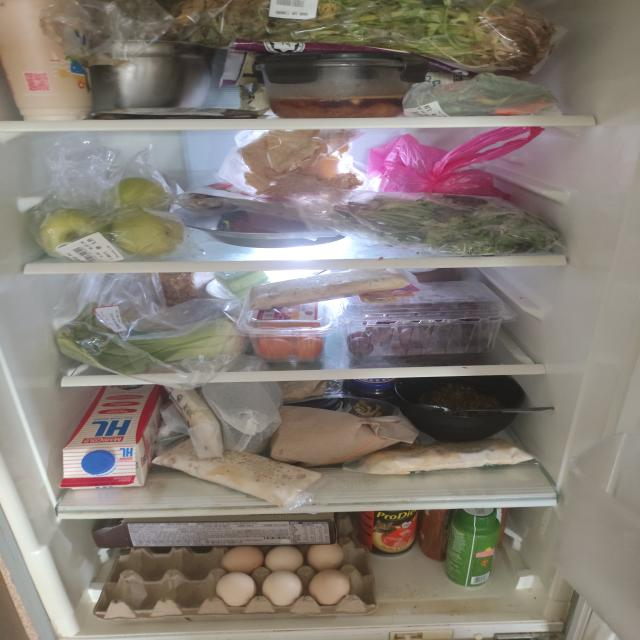apple: (39, 177, 186, 260)
egg: (92, 545, 379, 622)
grape: (346, 302, 492, 357)
leafy_greens: (173, 0, 557, 75), (334, 193, 571, 256)
pakchoy: (59, 304, 244, 374)
tempeh: (152, 436, 324, 507), (356, 437, 534, 476), (244, 270, 413, 310), (162, 385, 224, 459)
